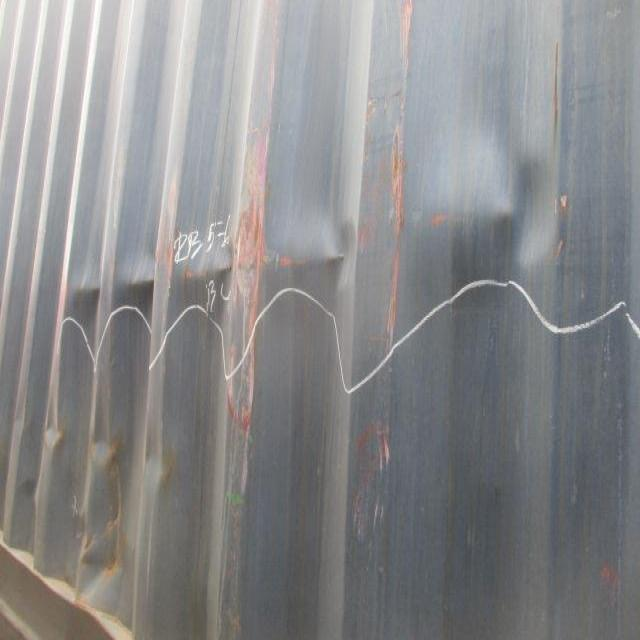dent: (52, 180, 366, 365), (1, 364, 202, 620), (386, 110, 582, 320)
